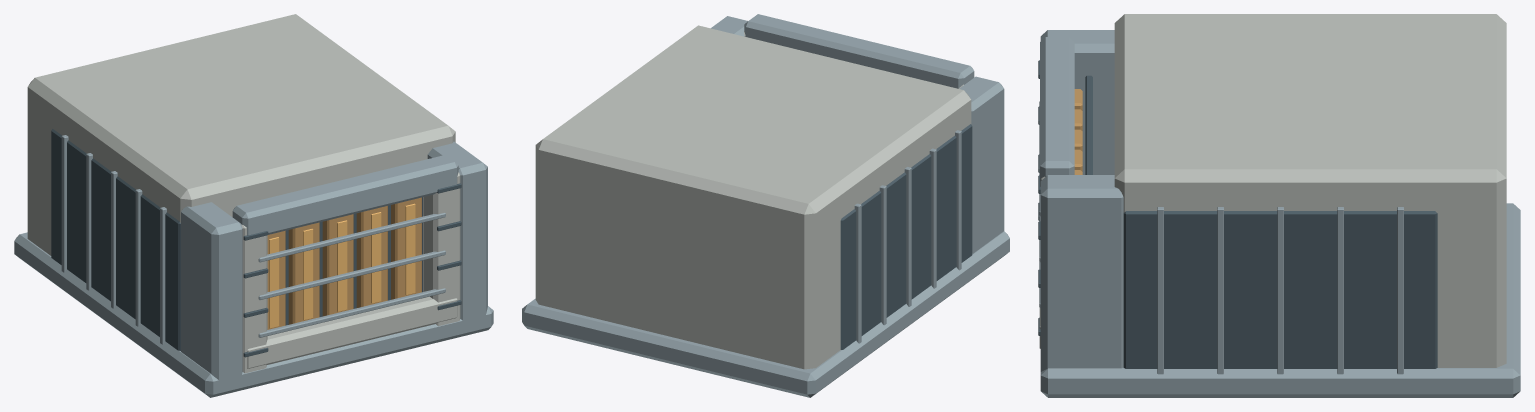
Rendered from furnace-v4.glb.
3 views of the same model, side by side, from view 1: azimuth 30°, elevation 25°; view 2: azimuth 150°, elevation 25°; view 3: azimuth 270°, elevation 25° (orthographic). The views are drawn at different scales.
Parts seen in each view (by area): view 1: site-wall, site-trim, site-dark, site-orange, site-gold; view 2: site-wall, site-trim, site-dark; view 3: site-wall, site-trim, site-dark, site-orange.
Part boxes in pixels (<box>): site-wall: <box>27,14,460,373</box>; site-trim: <box>14,135,493,397</box>; site-dark: <box>51,129,461,357</box>; site-orange: <box>267,197,421,329</box>; site-gold: <box>269,203,415,328</box>; site-wall: <box>535,25,971,369</box>; site-trim: <box>522,14,1009,397</box>; site-dark: <box>840,124,972,349</box>; site-wall: <box>1039,14,1506,367</box>; site-trim: <box>1039,30,1520,397</box>; site-dark: <box>1038,60,1437,368</box>; site-orange: <box>1074,89,1082,174</box>.
Bounding box in the file's own units: 8.8 × 5.35 × 10.45.
